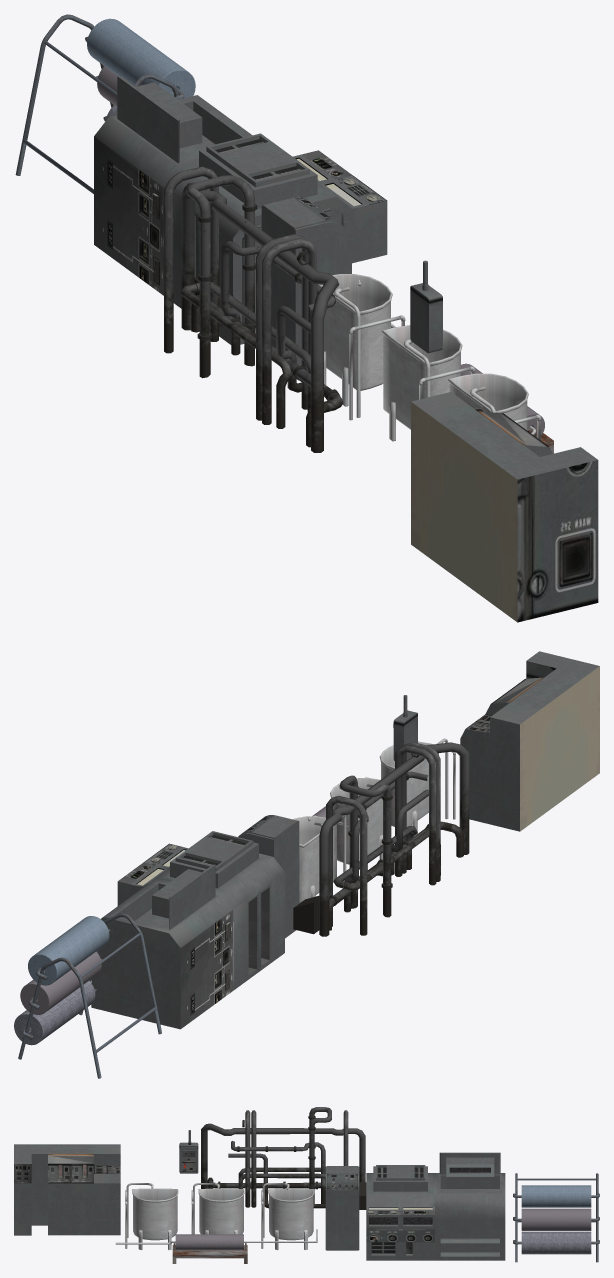
File: Factory.glb
3 views of the same model, one above another, from view 1: azimuth 30°, elevation 25°; view 2: azimuth 150°, elevation 25°; view 3: azimuth 270°, elevation 25° (orthographic). The views are drawn at different scales.
Parts seen in each view (by area): view 1: Cube.006, Object_4, SM_obj_PipeWall_01 - Default_0, Cube.002, Cube.008, Cube.005, Cube.007, Cube.009, defaultMaterial; view 2: Object_4, Cube.006, SM_obj_PipeWall_01 - Default_0, Cube.008, Cube.005, Cube.002, Cube.009, Cube.007, defaultMaterial; view 3: Object_4, Cube.006, SM_obj_PipeWall_01 - Default_0, Cube.008, Cube.005, Cube.009, Cube.002, Cube.007, Cube.004, defaultMaterial.
Part boxes in pixels (left/top/right/bottom): Cube.006: left=411, top=392, right=598, bottom=622; Object_4: left=94, top=76, right=387, bottom=344; SM_obj_PipeWall_01 - Default_0: left=164, top=166, right=343, bottom=452; Cube.002: left=317, top=274, right=405, bottom=420; Cube.008: left=15, top=14, right=195, bottom=193; Cube.005: left=261, top=197, right=347, bottom=365; Cube.007: left=381, top=325, right=474, bottom=441; Cube.009: left=448, top=373, right=541, bottom=440; defaultMaterial: left=410, top=260, right=442, bottom=353; Object_4: left=91, top=831, right=284, bottom=1029; Cube.006: left=460, top=651, right=599, bottom=831; SM_obj_PipeWall_01 - Default_0: left=293, top=742, right=469, bottom=936; Cube.008: left=14, top=913, right=161, bottom=1078; Cube.005: left=238, top=815, right=299, bottom=938; Cube.002: left=293, top=815, right=349, bottom=903; Cube.009: left=379, top=738, right=455, bottom=836; Cube.007: left=330, top=777, right=382, bottom=870; defaultMaterial: left=393, top=695, right=417, bottom=760; Object_4: left=366, top=1152, right=505, bottom=1260; Cube.006: left=14, top=1144, right=120, bottom=1235; SM_obj_PipeWall_01 - Default_0: left=201, top=1107, right=366, bottom=1209; Cube.008: left=513, top=1173, right=599, bottom=1262; Cube.005: left=325, top=1166, right=359, bottom=1250; Cube.009: left=125, top=1183, right=178, bottom=1249; Cube.002: left=261, top=1183, right=314, bottom=1250; Cube.007: left=191, top=1183, right=244, bottom=1234; Cube.004: left=115, top=1229, right=317, bottom=1263; defaultMaterial: left=179, top=1130, right=198, bottom=1173.
Bounding box in the file's own units: 15.41 × 10.42 × 52.07.
Materials: 11 (11 with a texture image).
